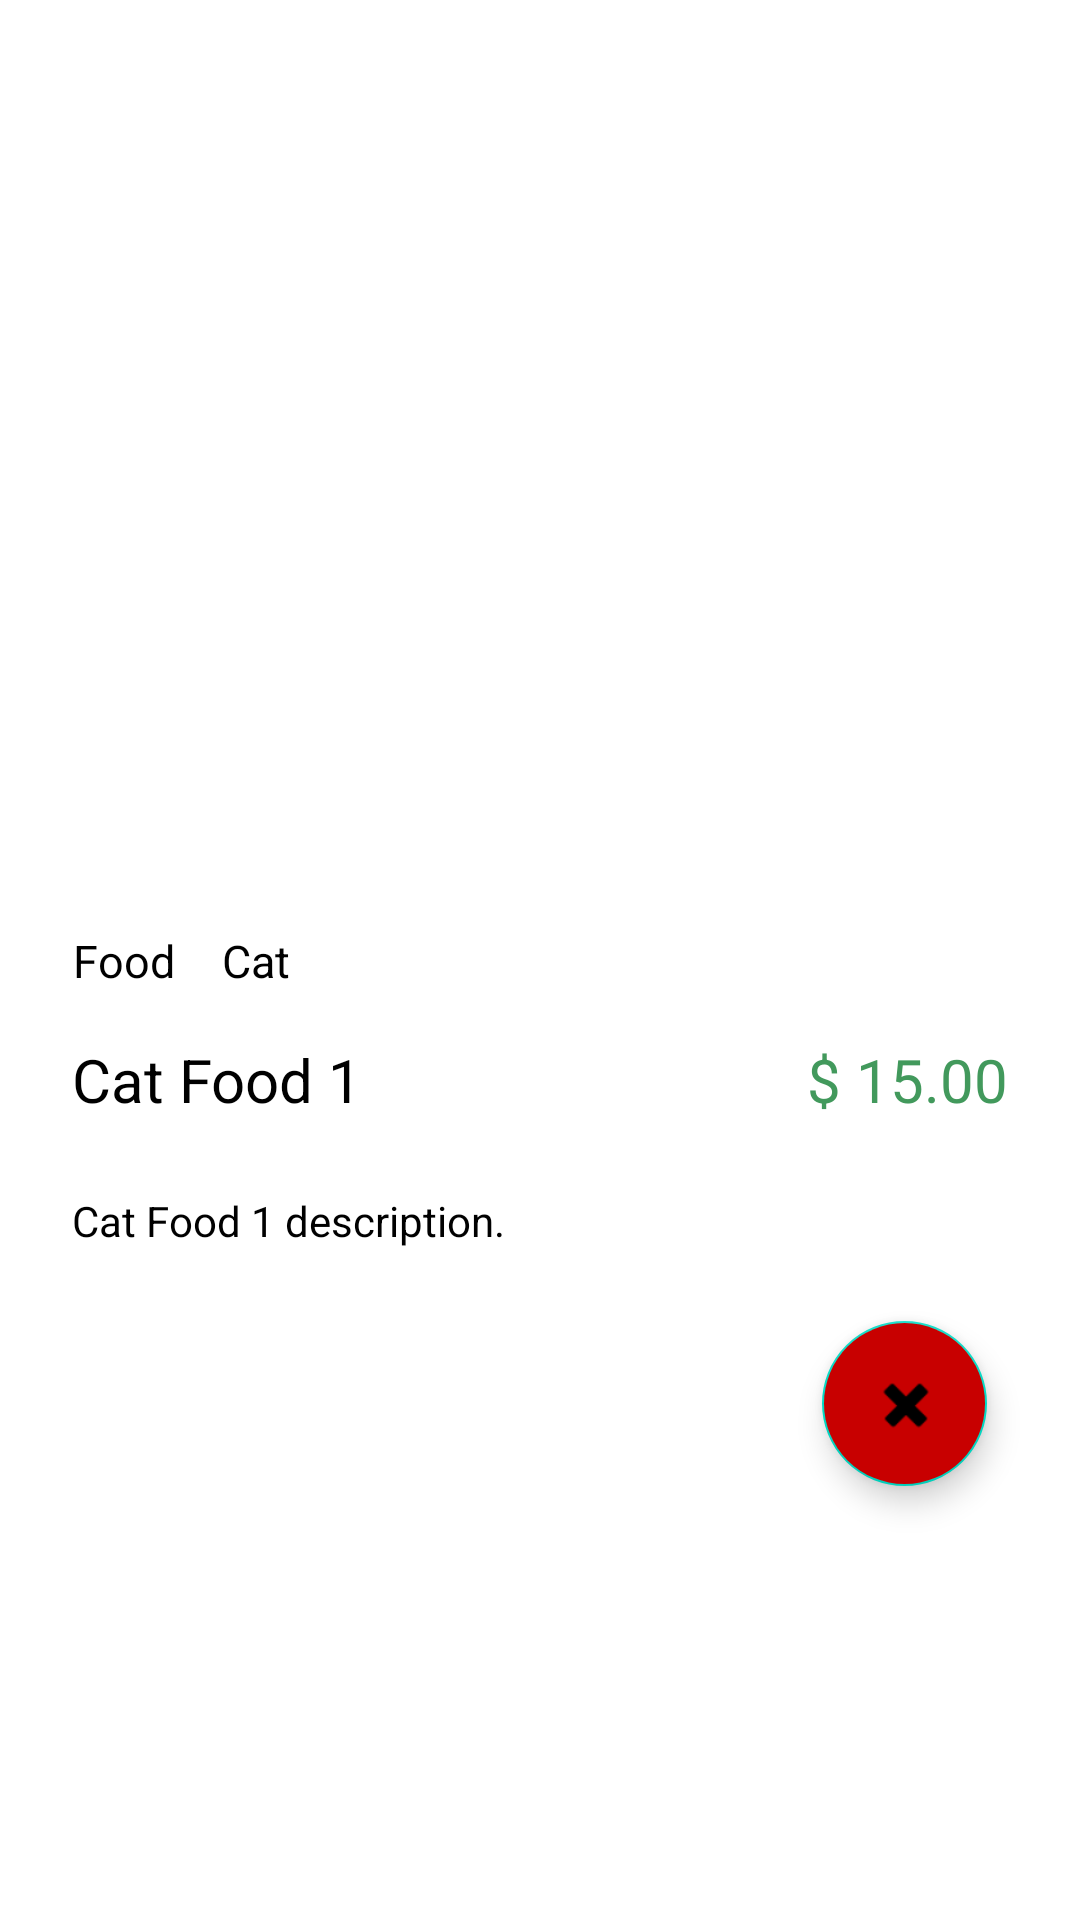

Screen size 1080w x 1920h. Icon name, then its box in pixels as (x1, y1, x2, y2):
delete: (822, 1321, 987, 1486)
